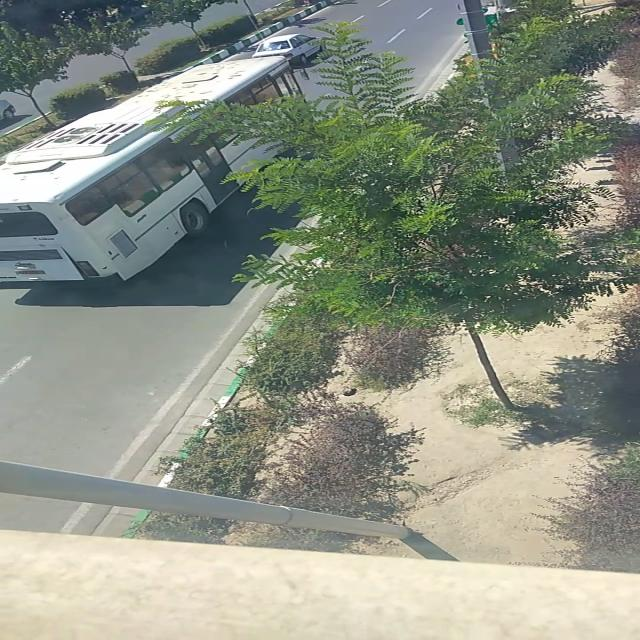bus: (0, 56, 316, 288)
car: (252, 33, 324, 65)
